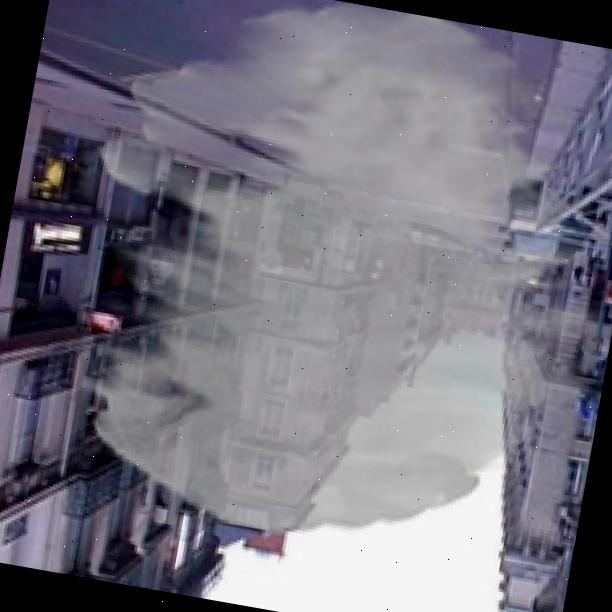smoke: (40, 0, 612, 581)
